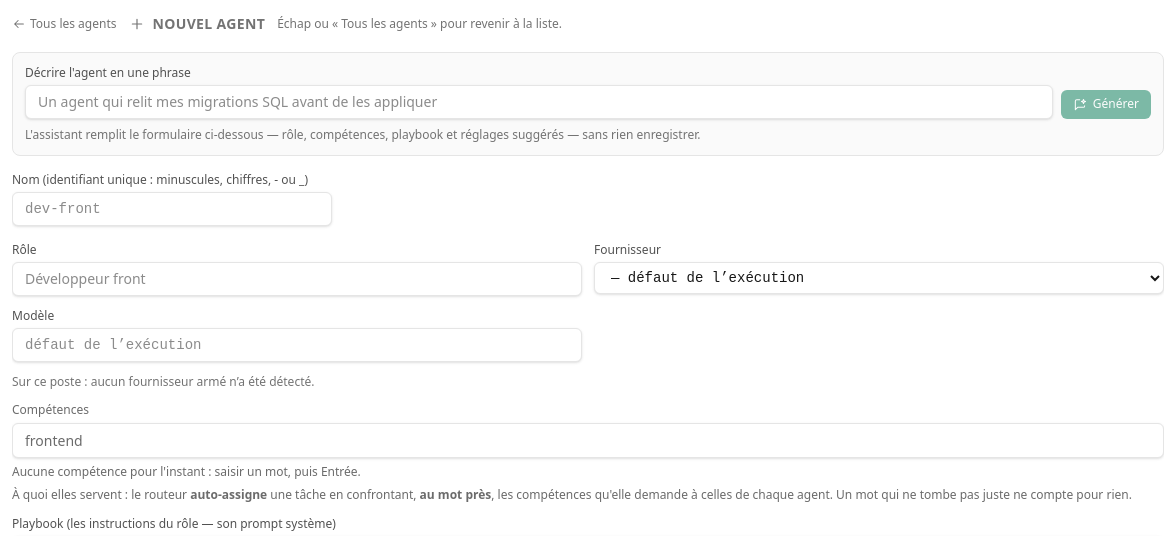
Test: ② l'assistant remplit le formulaire sans rien enregistrer › n'accepte de partir que d'une intention écrite
expect the button "Générer" is disabled: met, box [1061,90,1151,119]
Type "Un agent qui relit mes migrations SQL" into the field labelled "Décrire l'agent en une phrase" at (539, 102), box [25,85,1053,119]
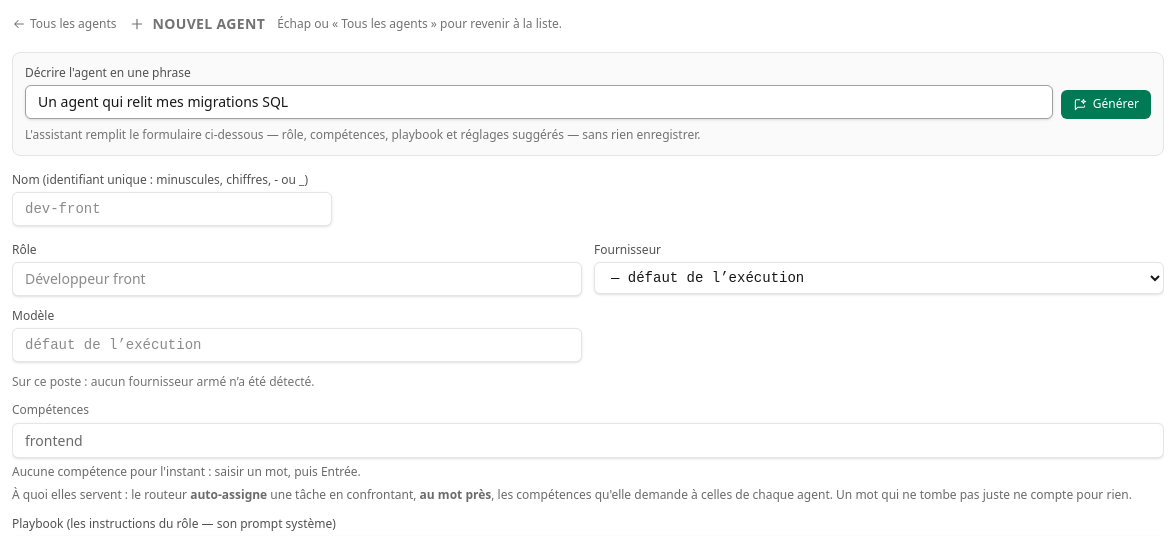
expect the button "Générer" is enabled: met, box [1061,90,1151,119]
